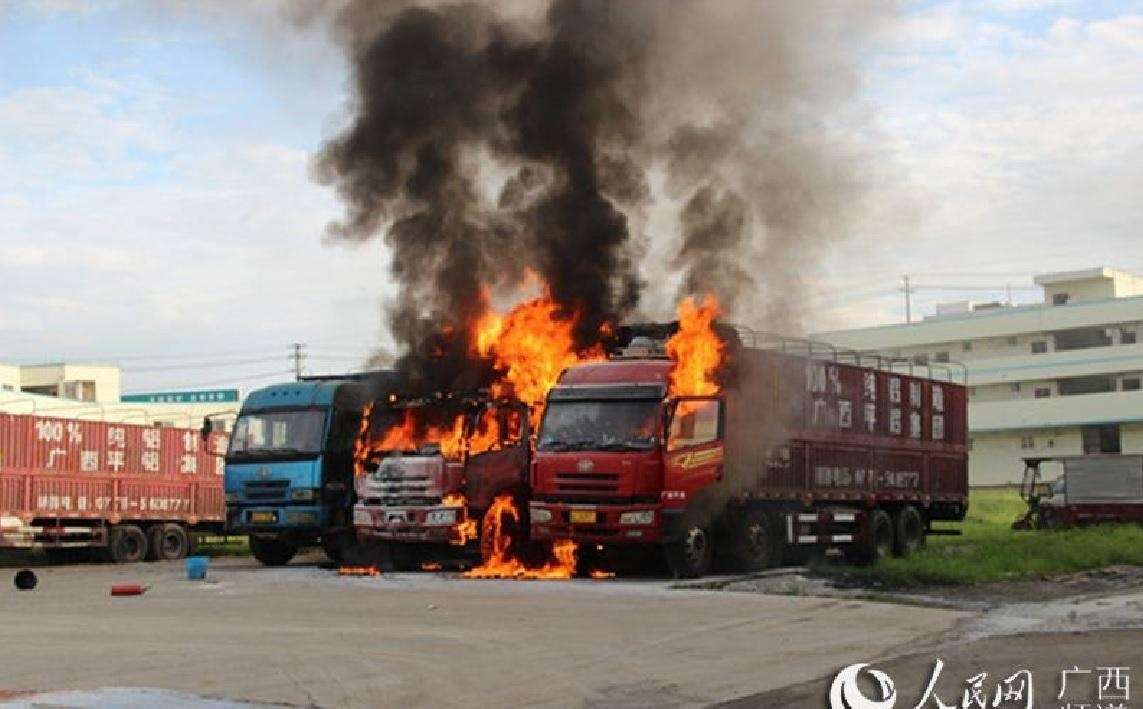fire: (341, 268, 729, 586)
